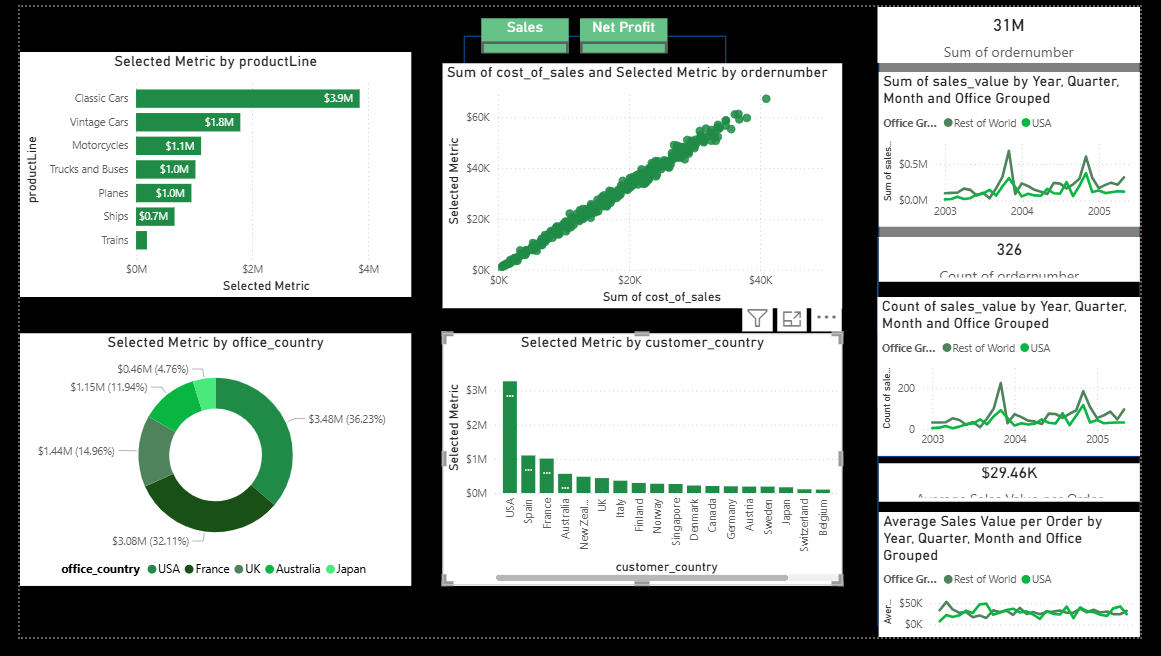

The dashboard page shown, as its layout file describes it:
{"tool":"powerbi","page":{"name":"Page 1","canvas":[1280,720],"ordinal":0},"visuals":[{"type":"card","fields":{"Values":["Sum(classicmodels sales_data_for_power_bi.cost_of_sales)"]},"box":[1020,4.3,215.7,97.1],"z":0},{"type":"card","fields":{"Values":["CountNonNull(classicmodels sales_data_for_power_bi.ordernumber)"]},"box":[979.6,314.9,300.4,57.9],"z":1000},{"type":"shape","box":[981.4,0,298.6,720],"z":2000},{"type":"shape","box":[507.1,32.9,300,195.7],"z":3000},{"type":"shape","box":[979.6,263,300.4,195.4],"z":4000},{"type":"shape","box":[979.6,512.7,300.4,195.4],"z":5000},{"type":"card","fields":{"Values":["classicmodels sales_data_for_power_bi.Average Sales Value per Order"]},"box":[981.4,521.4,298.6,44.3],"z":6000},{"type":"card","fields":{"Values":["Count(classicmodels sales_data_for_power_bi.ordernumber)"]},"box":[981.4,262.9,298.6,51.4],"z":8000},{"type":"lineChart","fields":{"Category":["classicmodels sales_data_for_power_bi.orderdate.Variation.Date Hierarchy.Year","classicmodels sales_data_for_power_bi.orderdate.Variation.Date Hierarchy.Quarter","classicmodels sales_data_for_power_bi.orderdate.Variation.Date Hierarchy.Month"],"Series":["classicmodels sales_data_for_power_bi.Office Grouped"],"Y":["Sum(classicmodels sales_data_for_power_bi.sales_value)"]},"box":[981.4,74.3,298.6,177.1],"z":9000},{"type":"lineChart","fields":{"Category":["classicmodels sales_data_for_power_bi.orderdate.Variation.Date Hierarchy.Year","classicmodels sales_data_for_power_bi.orderdate.Variation.Date Hierarchy.Quarter","classicmodels sales_data_for_power_bi.orderdate.Variation.Date Hierarchy.Month"],"Series":["classicmodels sales_data_for_power_bi.Office Grouped"],"Y":["classicmodels sales_data_for_power_bi.Average Sales Value per Order"]},"box":[981.4,577.1,298.6,142.9],"z":10000},{"type":"lineChart","fields":{"Y":["CountNonNull(classicmodels sales_data_for_power_bi.sales_value)"],"Category":["classicmodels sales_data_for_power_bi.orderdate.Variation.Date Hierarchy.Year","classicmodels sales_data_for_power_bi.orderdate.Variation.Date Hierarchy.Quarter","classicmodels sales_data_for_power_bi.orderdate.Variation.Date Hierarchy.Month"],"Series":["classicmodels sales_data_for_power_bi.Office Grouped"]},"box":[980,331.4,300,181.4],"z":11000},{"type":"clusteredBarChart","fields":{"Category":["classicmodels sales_data_for_power_bi.productLine"],"Y":["Table.Selected Metric"]},"box":[0,51.2,447.5,280],"z":12000},{"type":"actionButton","title":"Sales","box":[527.5,12.5,100,40],"z":13000},{"type":"actionButton","title":"Net Profit ","box":[640,12.5,100,40],"z":14000},{"type":"columnChart","fields":{"Y":["Table.Selected Metric"],"Category":["classicmodels sales_data_for_power_bi.customer_country"]},"box":[482.9,372.9,457.1,288.6],"z":15000},{"type":"scatterChart","fields":{"Category":["classicmodels sales_data_for_power_bi.ordernumber"],"Y":["Table.Selected Metric"],"X":["Sum(classicmodels sales_data_for_power_bi.cost_of_sales)"]},"box":[482.9,64.3,457.1,280],"z":16000},{"type":"donutChart","fields":{"Y":["Table.Selected Metric"],"Category":["classicmodels sales_data_for_power_bi.office_country"]},"box":[0,372.5,447.5,288.8],"z":17000},{"type":"card","fields":{"Values":["Sum(classicmodels sales_data_for_power_bi.ordernumber)"]},"box":[980,0,300,64.3],"z":17001}]}

Visuals, with their boxes in screenshot pixels (x1, y1, x2, y2), scaled from the page's 1280x720 canvas onto the 1161x656 screenshot:
card - Sum(classicmodels sales_data_for_power_bi.cost_of_sales): BBox(925, 4, 1121, 92)
card - CountNonNull(classicmodels sales_data_for_power_bi.ordernumber): BBox(889, 287, 1160, 340)
shape: BBox(890, 0, 1160, 655)
shape: BBox(460, 30, 732, 208)
shape: BBox(889, 240, 1160, 418)
shape: BBox(889, 467, 1160, 645)
card - classicmodels sales_data_for_power_bi.Average Sales Value per Order: BBox(890, 475, 1160, 515)
card - Count(classicmodels sales_data_for_power_bi.ordernumber): BBox(890, 240, 1160, 286)
lineChart - classicmodels sales_data_for_power_bi.orderdate.Variation.Date Hierarchy.Year x classicmodels sales_data_for_power_bi.orderdate.Variation.Date Hierarchy.Quarter: BBox(890, 68, 1160, 229)
lineChart - classicmodels sales_data_for_power_bi.orderdate.Variation.Date Hierarchy.Year x classicmodels sales_data_for_power_bi.orderdate.Variation.Date Hierarchy.Quarter: BBox(890, 526, 1160, 655)
lineChart - CountNonNull(classicmodels sales_data_for_power_bi.sales_value) x classicmodels sales_data_for_power_bi.orderdate.Variation.Date Hierarchy.Year: BBox(889, 302, 1160, 467)
clusteredBarChart - classicmodels sales_data_for_power_bi.productLine x Table.Selected Metric: BBox(0, 47, 406, 302)
"Sales" actionButton: BBox(478, 11, 569, 48)
"Net Profit " actionButton: BBox(580, 11, 671, 48)
columnChart - Table.Selected Metric x classicmodels sales_data_for_power_bi.customer_country: BBox(438, 340, 853, 603)
scatterChart - classicmodels sales_data_for_power_bi.ordernumber x Table.Selected Metric: BBox(438, 59, 853, 314)
donutChart - Table.Selected Metric x classicmodels sales_data_for_power_bi.office_country: BBox(0, 339, 406, 603)
card - Sum(classicmodels sales_data_for_power_bi.ordernumber): BBox(889, 0, 1160, 59)
